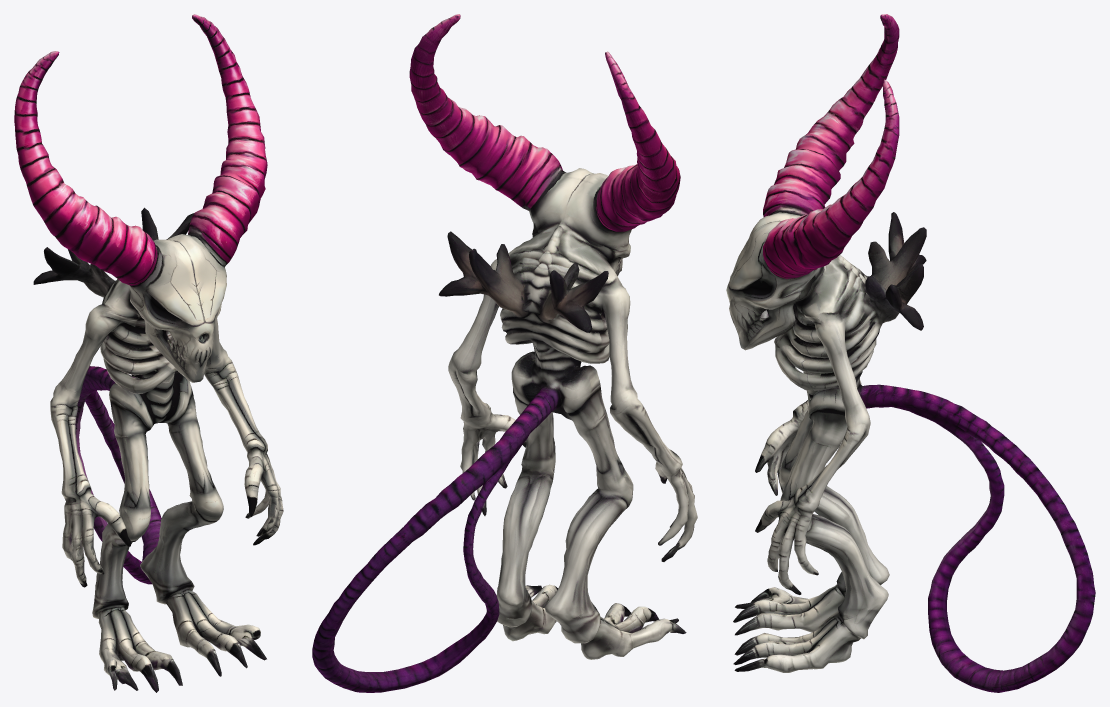
The model's file is summoned-skull.glb.
3 views of the same model, side by side, from view 1: azimuth 30°, elevation 25°; view 2: azimuth 150°, elevation 25°; view 3: azimuth 270°, elevation 25° (orthographic). The views are drawn at different scales.
Bounding box in the file's own units: 0.7789 × 1.91 × 1.06.
1 material, 1 textured.
